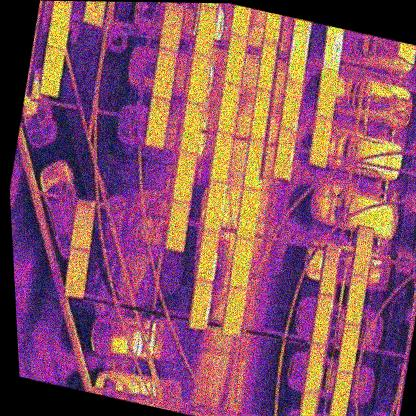Diode: (276, 77, 308, 135), (198, 179, 230, 235), (282, 30, 313, 86), (184, 277, 216, 331), (269, 127, 300, 180), (192, 229, 223, 281), (308, 292, 336, 345), (319, 25, 348, 72)
Hotspot: (212, 81, 244, 138), (67, 198, 99, 250)
Normal: (59, 246, 93, 300), (232, 185, 264, 241), (175, 100, 208, 154), (148, 46, 180, 101), (225, 235, 257, 290), (161, 199, 193, 253), (141, 97, 174, 149), (168, 150, 199, 205), (340, 272, 371, 327), (220, 32, 251, 87), (239, 135, 269, 191), (183, 52, 214, 106), (206, 130, 237, 184), (190, 3, 221, 57), (311, 67, 342, 121), (36, 44, 68, 96), (245, 87, 275, 142), (347, 224, 378, 277), (218, 284, 249, 337), (43, 1, 75, 52), (333, 322, 363, 375), (156, 2, 187, 53), (252, 39, 281, 93), (315, 244, 344, 297), (306, 114, 334, 168), (300, 341, 328, 395), (326, 370, 354, 416), (81, 1, 112, 27), (293, 390, 320, 416)
